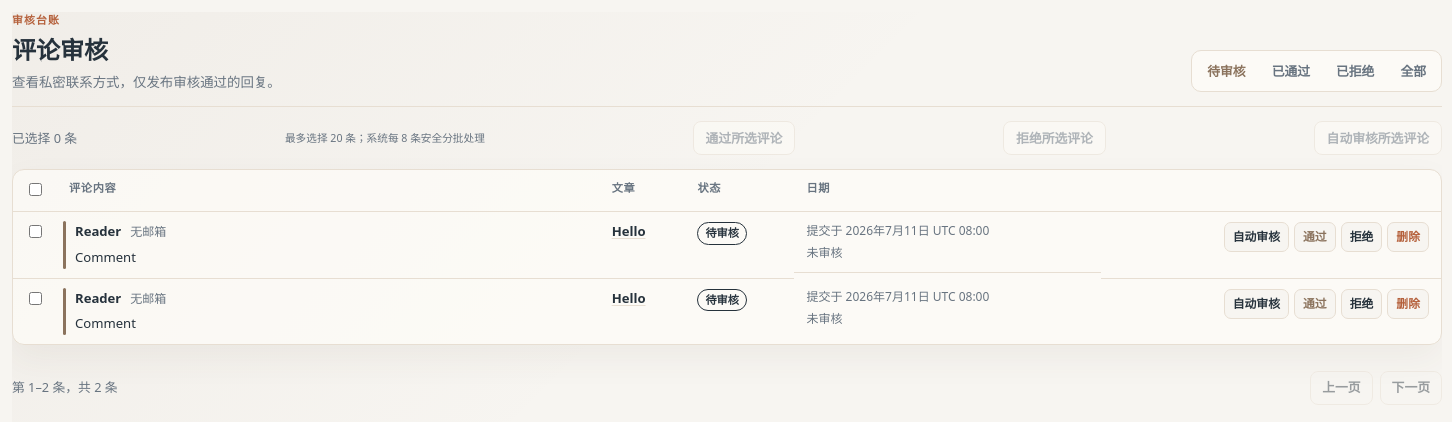
CommentModerationView › automatically moderates selected rows as one bounded batch
Click the checkbox with test id "comment-select-page": (36, 190) [29,184,42,196]
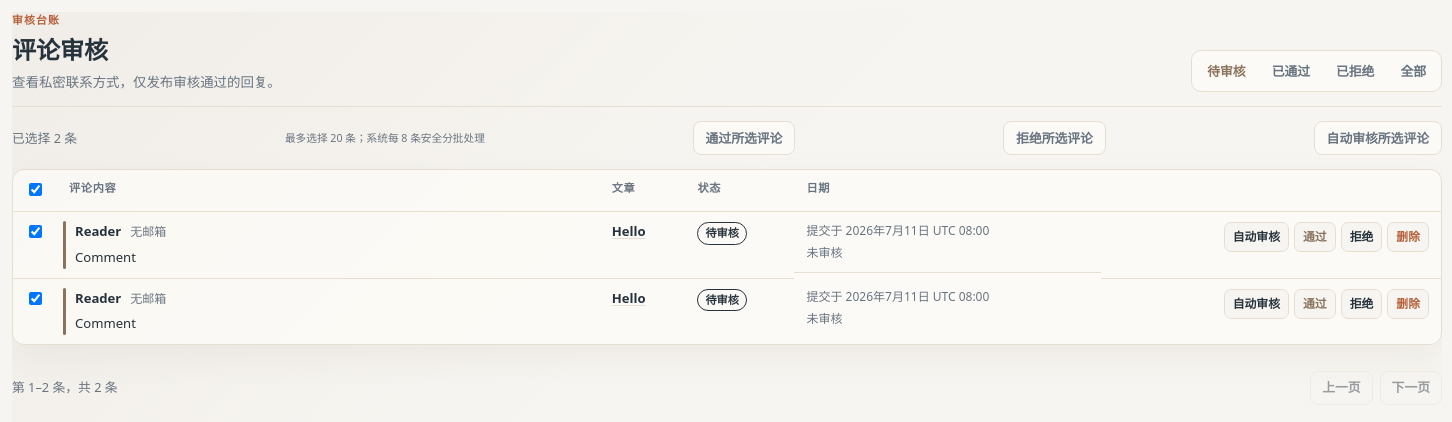
Click the button with test id "comment-auto-moderate-selected": (1378, 138) [1314,122,1442,156]
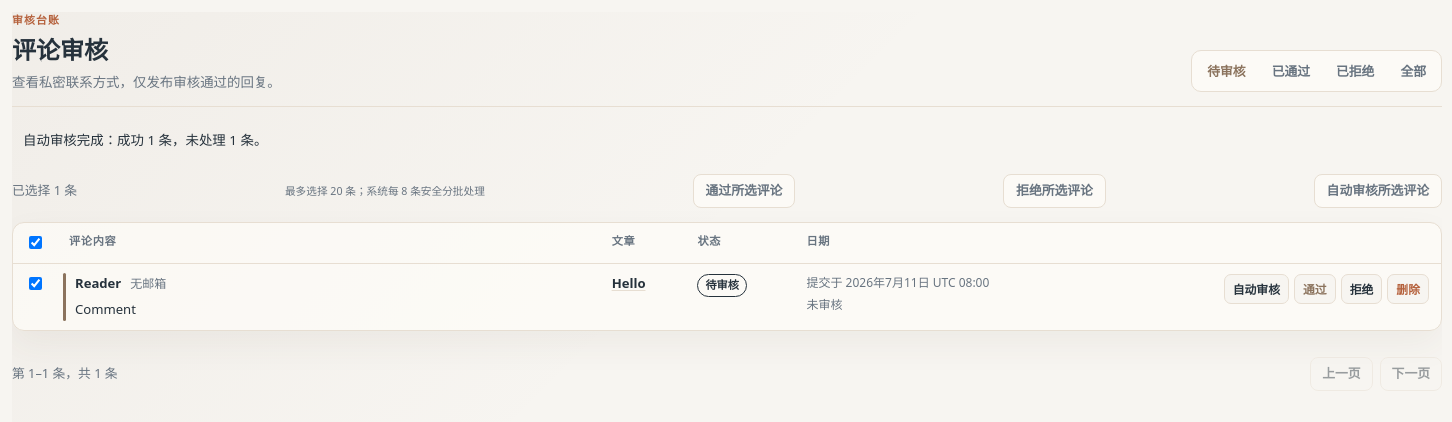
Expected: the button with test id "comment-auto-moderate-selected" is enabled, [1314,174,1442,208]
Expected: the message with test id "comment-action-notice" shows "成功 1 条，未处理 1 条", [23,132,267,150]
